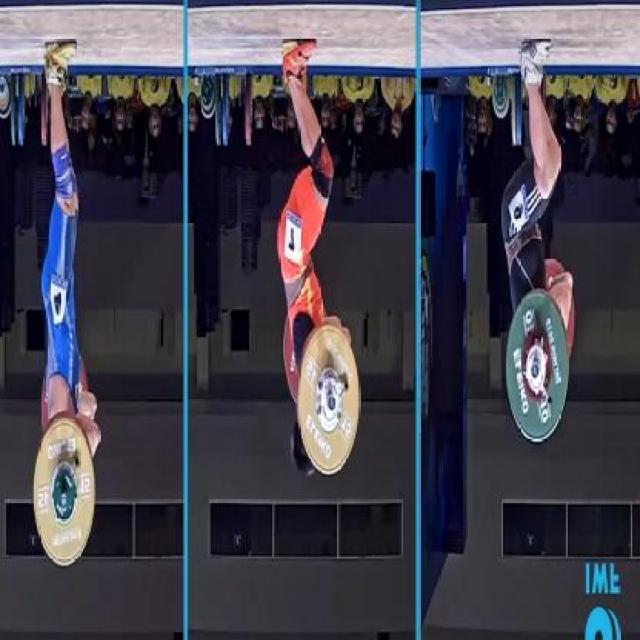Barbell: (516, 340, 550, 394), (322, 377, 342, 428), (56, 474, 73, 530)
